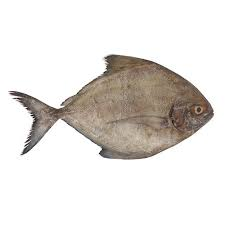Ikan Bawal: (16, 53, 216, 162)
